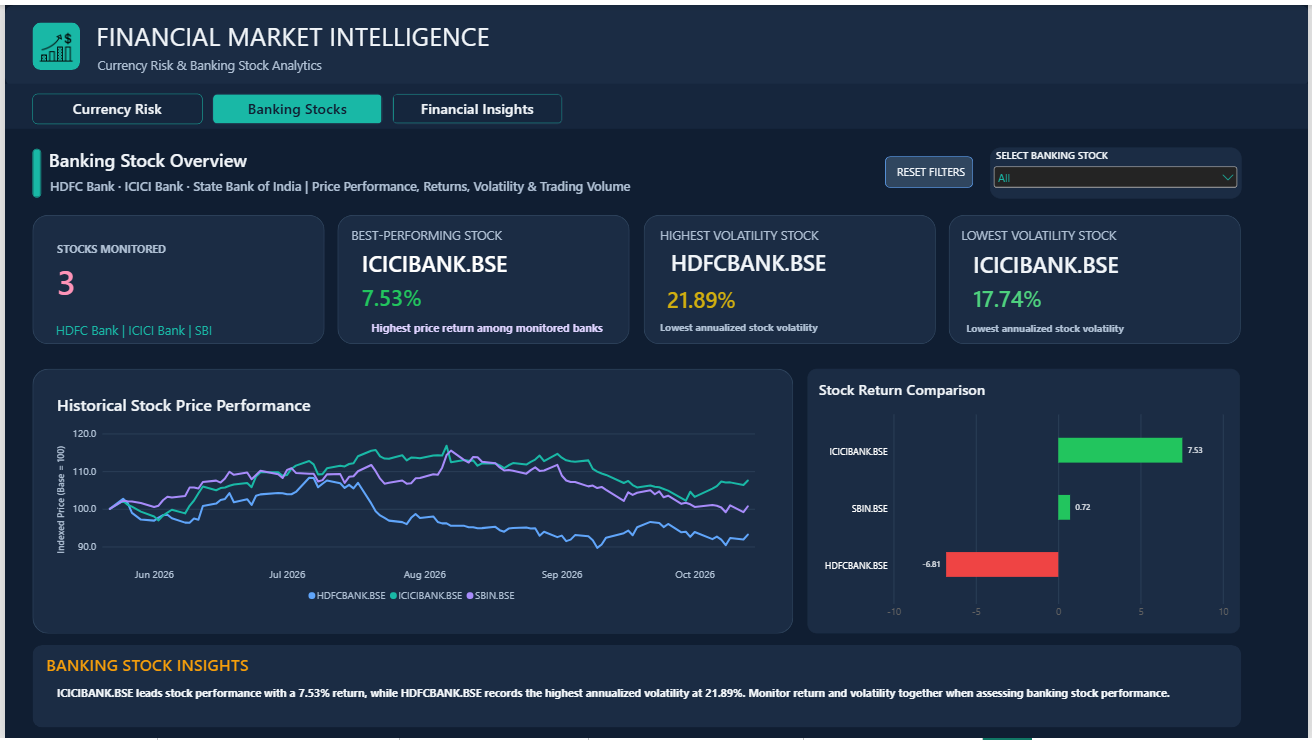

What the dashboard file says about the page in this screenshot:
{"tool":"powerbi","page":{"name":"02_Banking_Stock_Overview","canvas":[1920,1080],"ordinal":1},"visuals":[{"type":"shape","box":[0,0,1920,120],"z":0},{"type":"textbox","box":[135,20,1050,50],"z":1000},{"type":"textbox","box":[137,75,1200,32],"z":2000},{"type":"shape","box":[40,25,70,70],"z":3000},{"type":"shape","box":[0,116,1919.6,66.3],"z":4000},{"type":"actionButton","box":[40,130,250,45],"z":5000},{"type":"actionButton","box":[305,130,250,45],"z":6000},{"type":"actionButton","box":[570,130,250.3,45],"z":7000},{"type":"shape","box":[40.5,211,12.9,72],"z":8000},{"type":"textbox","box":[65,210,900,42],"z":9000},{"type":"textbox","box":[67,254,1050,30],"z":10000},{"type":"shape","box":[40,310,430,190],"z":11000},{"type":"cardVisual","fields":{"Data":["_Measures_Stocks.Stocks Monitored"]},"box":[60,350,390,90],"z":12000},{"type":"textbox","box":[65,465,300,28],"z":13000},{"type":"shape","box":[490,310,430,190],"z":14000},{"type":"cardVisual","fields":{"Data":["_Measures_Stocks.Best Stock Return Display %"]},"box":[509.8,399.4,390.2,60.7],"z":15000},{"type":"textbox","box":[538.7,463.7,350,28],"z":16000},{"type":"shape","box":[940,310,430,190],"z":17000},{"type":"cardVisual","fields":{"Data":["_Measures_Stocks.Highest Stock Volatility Display %"]},"box":[959.4,405.4,364.9,57.9],"z":18000},{"type":"textbox","box":[965,325,360,32],"z":19000},{"type":"shape","box":[1390,310,430,190],"z":20000},{"type":"cardVisual","fields":{"Data":["_Measures_Stocks.Lowest Volatility Stock"]},"box":[1409.2,357.1,389.9,48.3],"z":21000},{"type":"textbox","box":[1415,465,300,28],"z":22000},{"type":"shape","box":[40,535,1120,390],"z":23000},{"type":"lineChart","title":"Historical Stock Price Performance","fields":{"Category":["Dim_Date.Date"],"Series":["Dim_Stock.Stock Symbol"],"Y":["_Measures_Stocks.Stock Indexed Price"]},"box":[60.8,557.8,1079.1,342.8],"z":24000},{"type":"clusteredBarChart","title":"Stock Return Comparison","fields":{"Category":["Dim_Stock.Stock Symbol"],"Y":["_Measures_Stocks.Stock Price Return %"]},"box":[1182.5,535.5,636.9,389.4],"z":25000},{"type":"shape","box":[40.5,942.3,1779.8,121.5],"z":26000},{"type":"slicer","fields":{"Values":["Dim_Stock.Bank Name"]},"box":[1450,210,370,75],"z":27000},{"type":"textbox","box":[60.7,955.2,1733.8,104.9],"z":28000},{"type":"cardVisual","fields":{"Data":["_Measures_Stocks.Banking Stock Insight"]},"box":[60,980,1715,65],"z":29000},{"type":"textbox","box":[510,325,358.9,30],"z":30000},{"type":"cardVisual","fields":{"Data":["_Measures_Stocks.Best Performing Stock"]},"box":[509.8,355.2,379.1,49.7],"z":31000},{"type":"cardVisual","fields":{"Data":["_Measures_Stocks.Highest Volatility Stock"]},"box":[965.2,351.3,359.1,54.1],"z":32000},{"type":"textbox","box":[1407.3,326.2,361,30.9],"z":33000},{"type":"cardVisual","fields":{"Data":["_Measures_Stocks.Lowest Stock Volatility Display %"]},"box":[1409.2,405.4,359.1,54.1],"z":34000},{"type":"textbox","box":[965.2,463.3,330.1,36.7],"z":35000},{"type":"actionButton","box":[1296.1,223.1,129.8,46.7],"z":36000}]}

Visuals, with their boxes in screenshot pixels (x1, y1, x2, y2), scaled from the page's 1920x1080 canvas onto the 1312x740 screenshot:
shape: 0/0/1311/82
textbox: 92/14/810/48
textbox: 94/51/914/73
shape: 27/17/75/65
shape: 0/79/1311/125
actionButton: 27/89/198/120
actionButton: 208/89/379/120
actionButton: 390/89/561/120
shape: 28/145/36/194
textbox: 44/144/659/173
textbox: 46/174/763/195
shape: 27/212/321/343
cardVisual - _Measures_Stocks.Stocks Monitored: 41/240/308/301
textbox: 44/319/249/338
shape: 335/212/629/343
cardVisual - _Measures_Stocks.Best Stock Return Display %: 348/274/615/315
textbox: 368/318/607/337
shape: 642/212/936/343
cardVisual - _Measures_Stocks.Highest Stock Volatility Display %: 656/278/905/317
textbox: 659/223/905/245
shape: 950/212/1244/343
cardVisual - _Measures_Stocks.Lowest Volatility Stock: 963/245/1229/278
textbox: 967/319/1172/338
shape: 27/367/793/634
"Historical Stock Price Performance" lineChart: 42/382/779/617
"Stock Return Comparison" clusteredBarChart: 808/367/1243/634
shape: 28/646/1244/729
slicer - Dim_Stock.Bank Name: 991/144/1244/195
textbox: 41/654/1226/726
cardVisual - _Measures_Stocks.Banking Stock Insight: 41/671/1213/716
textbox: 348/223/594/243
cardVisual - _Measures_Stocks.Best Performing Stock: 348/243/607/277
cardVisual - _Measures_Stocks.Highest Volatility Stock: 660/241/905/278
textbox: 962/224/1208/245
cardVisual - _Measures_Stocks.Lowest Stock Volatility Display %: 963/278/1208/315
textbox: 660/317/885/343
actionButton: 886/153/974/185
